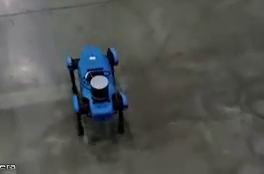robot dog: (60, 42, 133, 147)
